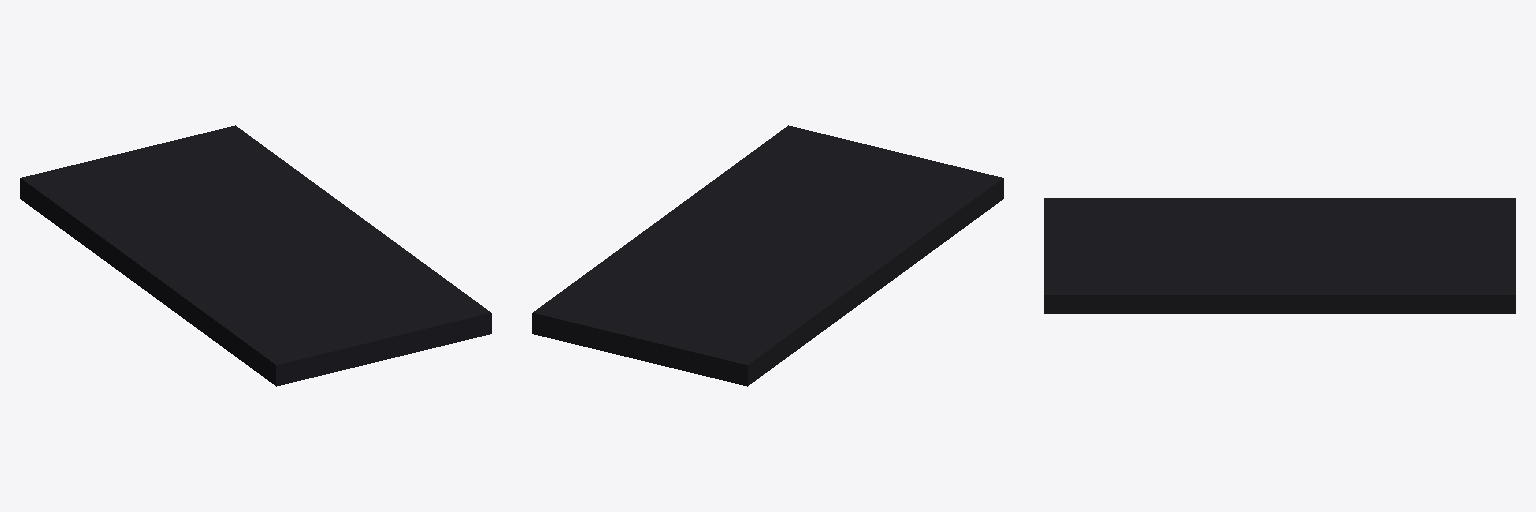
The robot description file, URDF, robot "iphone_12_pro_max":
<?xml version="1.0"?>
<!-- iPhone 12 Pro Max: generated by imuninn from Apple's dimensional drawings (iphone-frames dataset). Frames: device = display centre on the front glass (x right, y top, z out of the screen); cam_*_optical = OpenCV axes. Geometry and mass are approximate. -->
<robot name="iphone_12_pro_max">
  <material name="iphone_body">
    <color rgba="0.15 0.15 0.17 1" />
  </material>
  <material name="iphone_lens">
    <color rgba="0.05 0.05 0.06 1" />
  </material>
  <link name="device">
    <visual name="body">
      <origin xyz="0 0 -0.003695" rpy="0 0 0" />
      <geometry>
        <box size="0.07807 0.16084 0.00739" />
      </geometry>
      <material name="iphone_body" />
    </visual>
    <collision name="body">
      <origin xyz="0 0 -0.003695" rpy="0 0 0" />
      <geometry>
        <box size="0.07807 0.16084 0.00739" />
      </geometry>
    </collision>
    <visual name="lens_telephoto">
      <origin xyz="0.025605 0.06699 -0.008785" rpy="0 0 0" />
      <geometry>
        <cylinder radius="0.007055" length="0.00279" />
      </geometry>
      <material name="iphone_lens" />
    </visual>
    <visual name="lens_main">
      <origin xyz="0.025605 0.04952 -0.008785" rpy="0 0 0" />
      <geometry>
        <cylinder radius="0.007055" length="0.00279" />
      </geometry>
      <material name="iphone_lens" />
    </visual>
    <visual name="lens_ultra_wide">
      <origin xyz="0.010475 0.05826 -0.008785" rpy="0 0 0" />
      <geometry>
        <cylinder radius="0.007055" length="0.00279" />
      </geometry>
      <material name="iphone_lens" />
    </visual>
    <inertial>
      <origin xyz="0 0 -0.003695" rpy="0 0 0" />
      <mass value="0.213" />
      <inertia ixx="0.000460153" ixy="0" ixz="0" iyy="0.000109154" iyz="0" izz="0.000567369" />
    </inertial>
  </link>
  <link name="magsafe" />
  <joint name="device_to_magsafe" type="fixed">
    <parent link="device" />
    <child link="magsafe" />
    <origin xyz="-5e-06 0 -0.00739" rpy="3.14159265 0 3.14159265" />
  </joint>
  <link name="cam_telephoto_optical" />
  <joint name="device_to_cam_telephoto_optical" type="fixed">
    <parent link="device" />
    <child link="cam_telephoto_optical" />
    <origin xyz="0.025605 0.06699 -0.01018" rpy="3.14159265 0 -1.57079633" />
  </joint>
  <link name="cam_main_optical" />
  <joint name="device_to_cam_main_optical" type="fixed">
    <parent link="device" />
    <child link="cam_main_optical" />
    <origin xyz="0.025605 0.04952 -0.01018" rpy="3.14159265 0 -1.57079633" />
  </joint>
  <link name="cam_ultra_wide_optical" />
  <joint name="device_to_cam_ultra_wide_optical" type="fixed">
    <parent link="device" />
    <child link="cam_ultra_wide_optical" />
    <origin xyz="0.010475 0.05826 -0.01018" rpy="3.14159265 0 -1.57079633" />
  </joint>
  <link name="cam_front_optical" />
  <joint name="device_to_cam_front_optical" type="fixed">
    <parent link="device" />
    <child link="cam_front_optical" />
    <origin xyz="5e-06 0.07506 0" rpy="0 0 1.57079633" />
  </joint>
  <link name="imu" />
  <joint name="device_to_imu" type="fixed">
    <parent link="device" />
    <child link="imu" />
    <origin xyz="0 0 0" rpy="0 0 0" />
  </joint>
</robot>

--- Render facts (derived) ---
3 views of the same robot in one strip: view 1: azimuth 30°, elevation 25°; view 2: azimuth 150°, elevation 25°; view 3: azimuth 270°, elevation 25° (orthographic).
Robot: iphone_12_pro_max — 7 links, 6 joints (6 fixed); root link device; default pose: every joint at zero.
Visible links, largest first — view 1: device; view 2: device; view 3: device.
Boxes of the visible links, box(x1,y1,x2,y2) form: device: box(20, 125, 491, 386); device: box(532, 125, 1003, 386); device: box(1044, 198, 1515, 313).
Size in the robot's own frame: 0.0781 by 0.1608 by 0.0102 metres.
Geometry: primitives only (box / cylinder / sphere), no mesh files.
